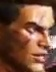kevin: (3, 0, 51, 71)
